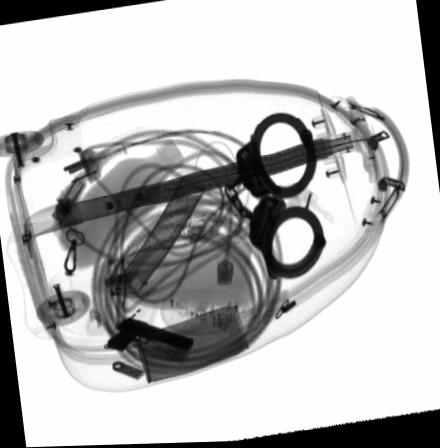Gun: (104, 317, 194, 355)
HandCuffs: (225, 112, 328, 283)
